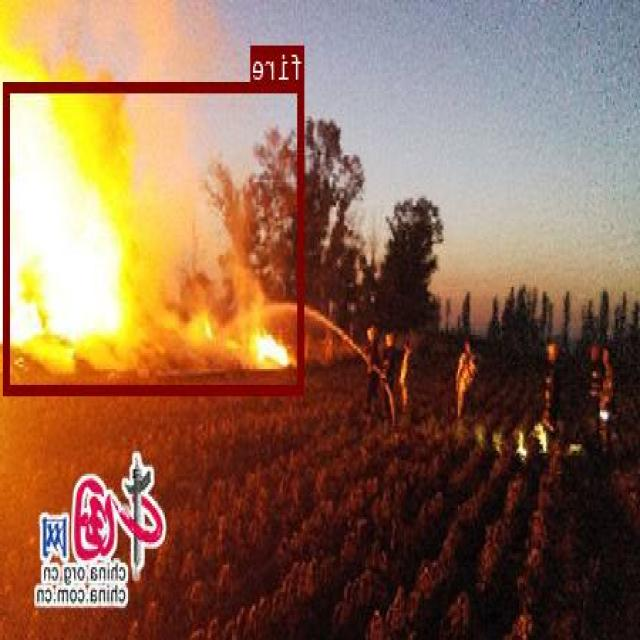fire: (5, 82, 305, 393)
